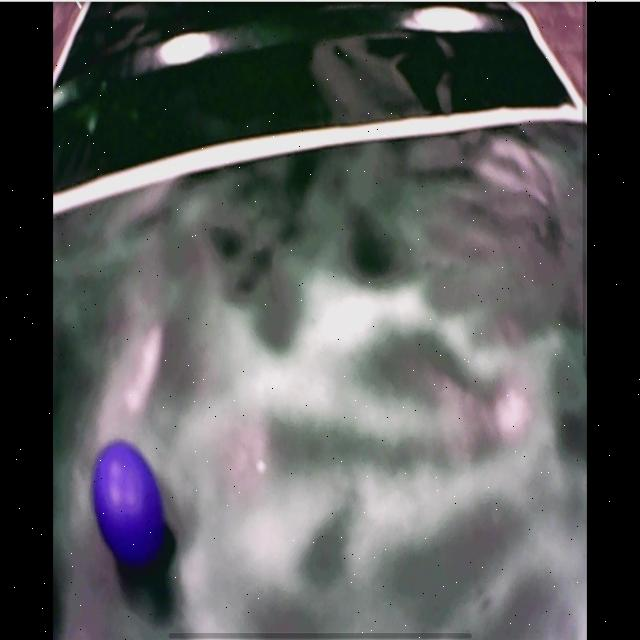ball: (92, 438, 164, 564)
